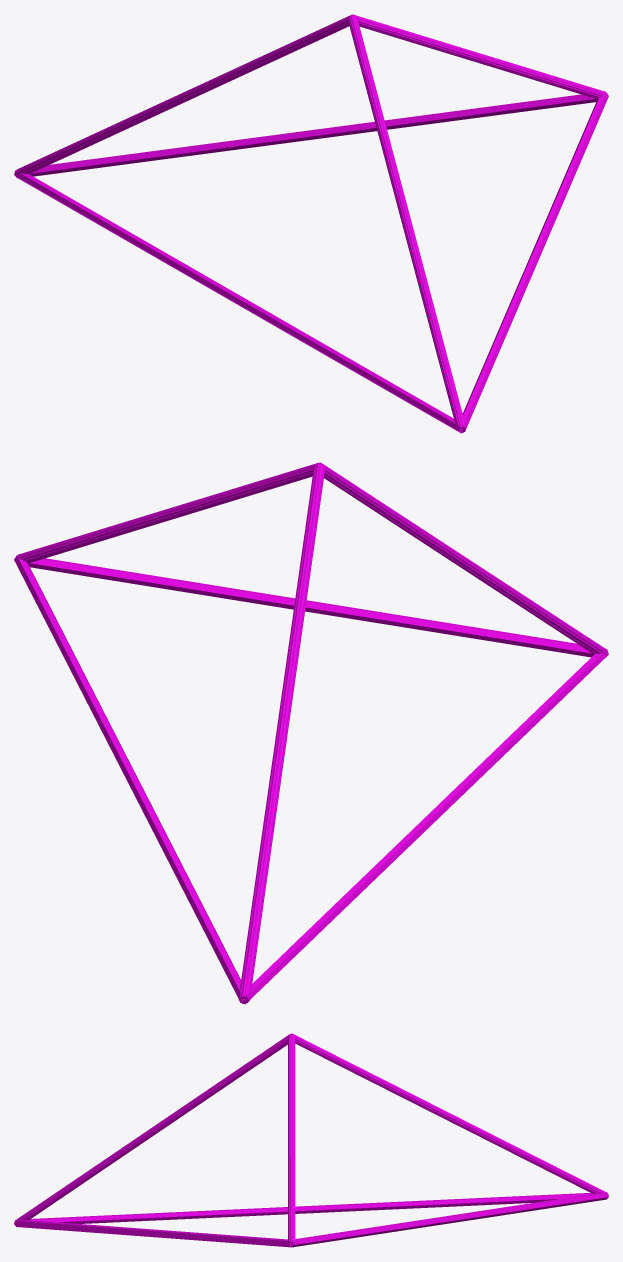
Rendered from obtuse_pyramid_net.fbx.
The picture shows the model from 3 angles, top to bottom: view 1: azimuth 30°, elevation 25°; view 2: azimuth 150°, elevation 25°; view 3: azimuth 270°, elevation 25°; orthographic projection. The views are drawn at different scales.
Visible parts, largest first — view 1: MASH2_ReproMesh; view 2: MASH2_ReproMesh; view 3: MASH2_ReproMesh.
Part boxes in pixels (x1=…): MASH2_ReproMesh: x1=14, y1=14, x2=608, y2=433; MASH2_ReproMesh: x1=14, y1=462, x2=608, y2=1004; MASH2_ReproMesh: x1=14, y1=1033, x2=608, y2=1247.
Size of the model in its own units: 10.22 by 6.8 by 16.87.
